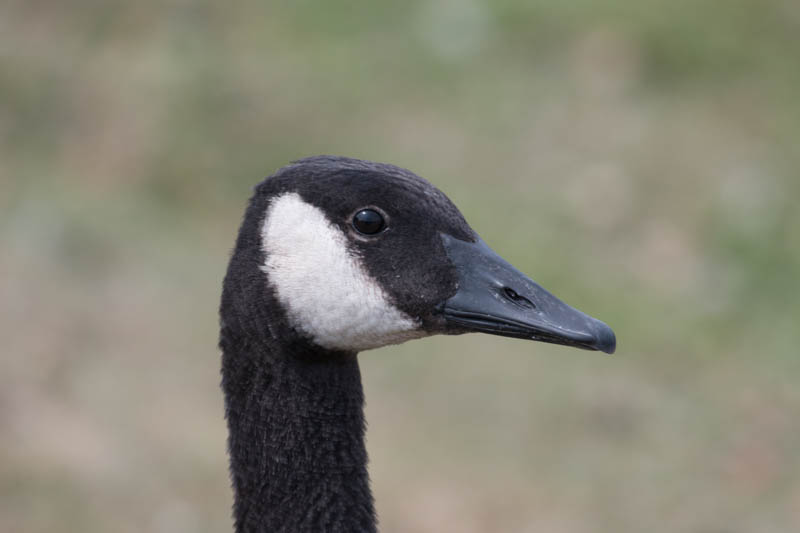goose-head: (218, 155, 616, 358)
